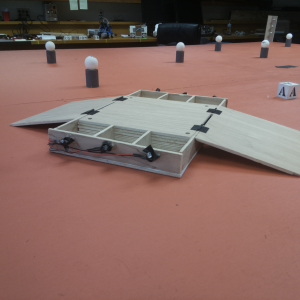obstacle: (82, 54, 100, 89), (44, 41, 58, 65), (175, 41, 186, 64), (260, 42, 272, 61), (214, 35, 226, 51), (283, 33, 294, 49)
side: (40, 127, 188, 182), (130, 85, 227, 105)
slope: (196, 106, 300, 177), (18, 91, 124, 122)
